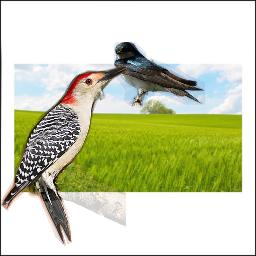Swallow: (114, 42, 205, 108)
Woodpecker: (0, 66, 126, 246)
